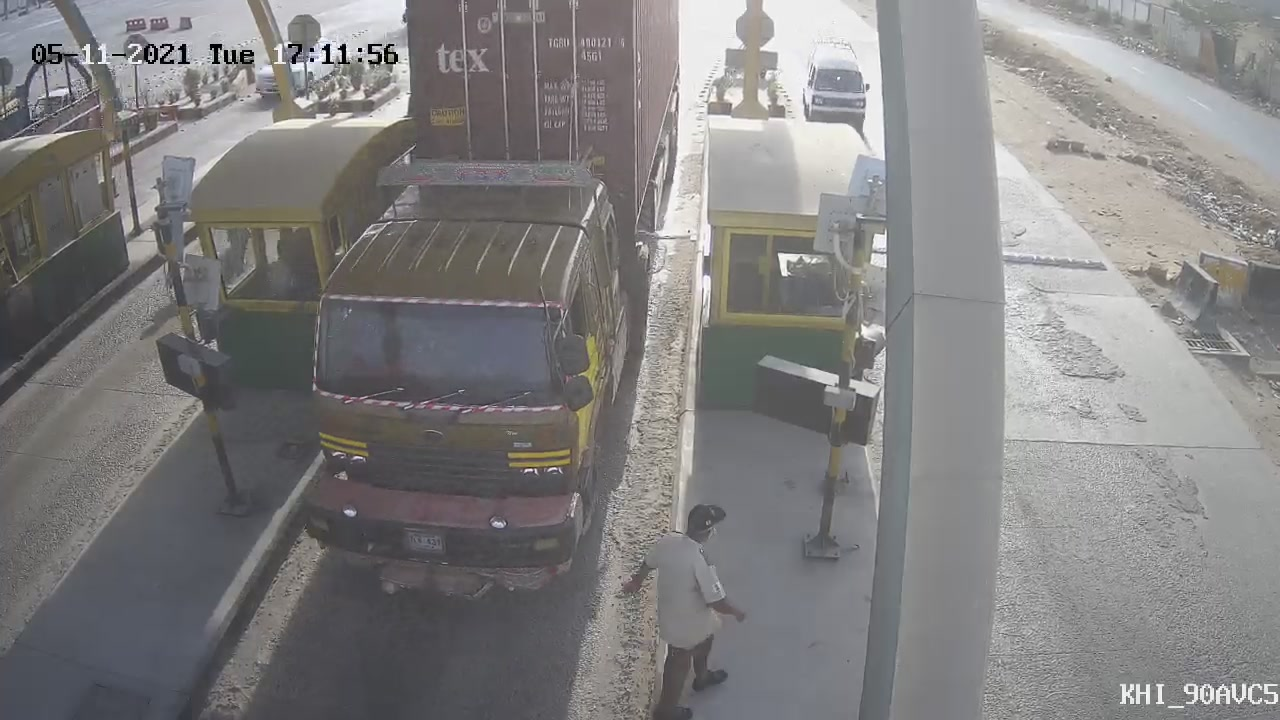F6: (272, 1, 699, 619)
